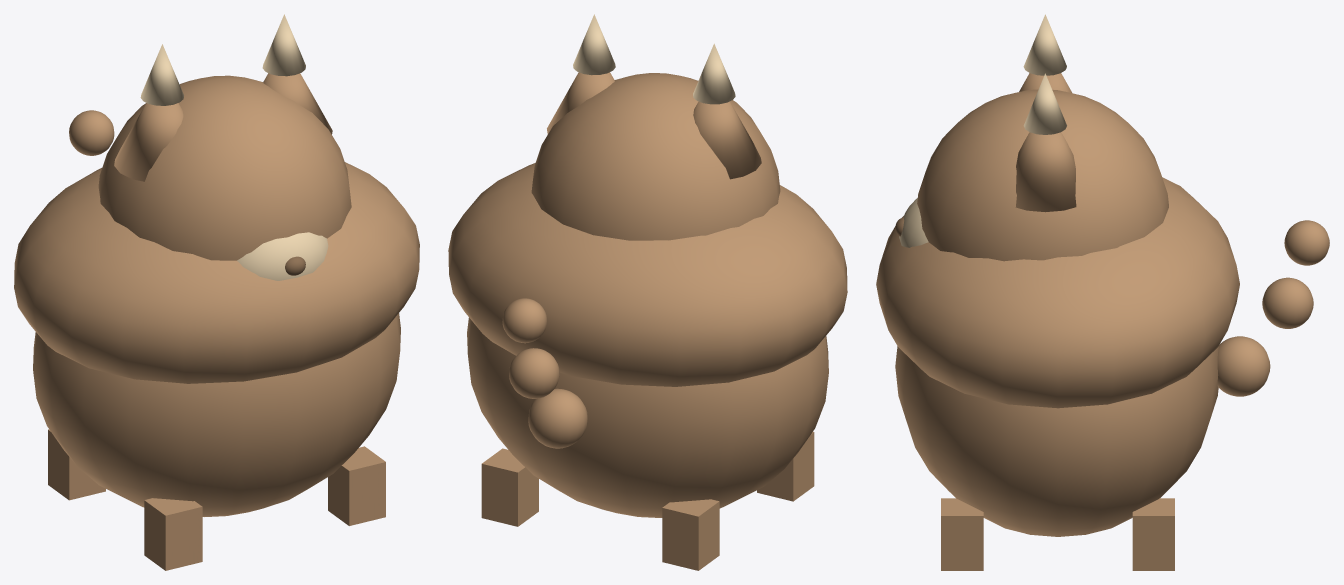
File: mainecoon_guardian.glb
The picture shows the model from 3 angles, left to right: view 1: azimuth 30°, elevation 25°; view 2: azimuth 150°, elevation 25°; view 3: azimuth 270°, elevation 25°; orthographic projection.
Visible parts, largest first — view 1: mainecoon_guardian; view 2: mainecoon_guardian; view 3: mainecoon_guardian.
Boxes of the visible parts, x1,y1,x2,y2 form: mainecoon_guardian: (14,14,419,570); mainecoon_guardian: (448,14,847,570); mainecoon_guardian: (876,14,1329,570).
Size of the model in its own units: 1.46 by 1.81 by 1.57.
